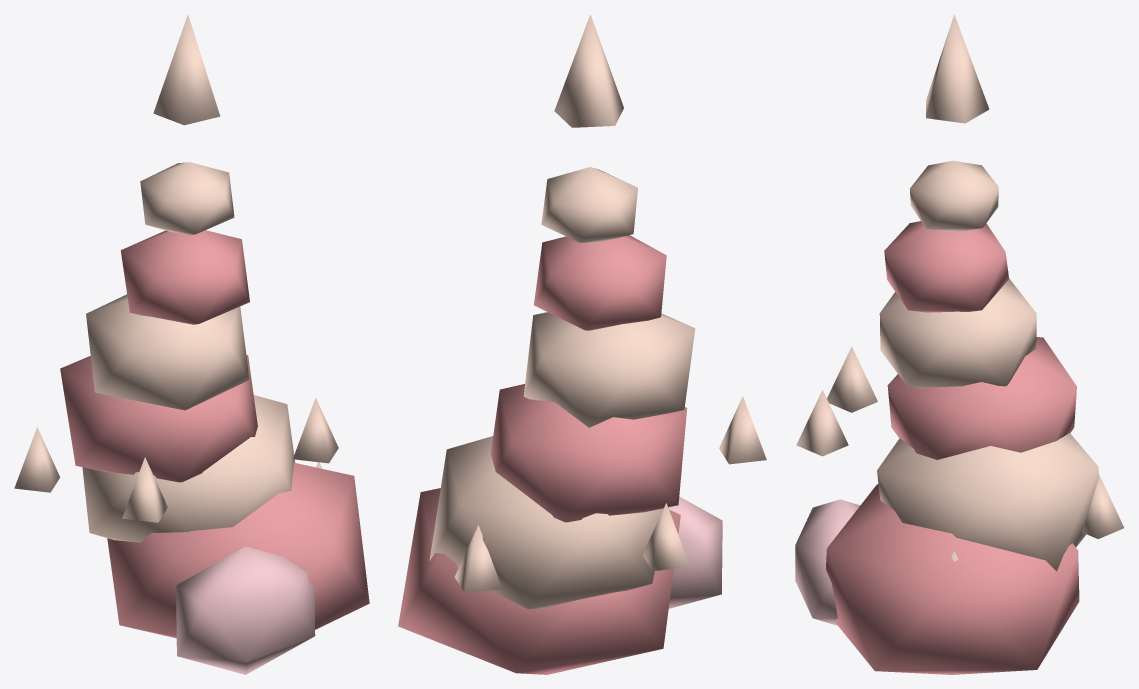
Rendered from conch.glb.
3 views of the same model, side by side, from view 1: azimuth 30°, elevation 25°; view 2: azimuth 150°, elevation 25°; view 3: azimuth 270°, elevation 25° (orthographic). The views are drawn at different scales.
Visible parts, largest first — view 1: conch_shell; view 2: conch_shell; view 3: conch_shell.
Part boxes in pixels (box(x1,y1,x2,y2)): conch_shell: box(14, 14, 369, 674); conch_shell: box(398, 14, 766, 674); conch_shell: box(795, 14, 1124, 674).
Size of the model in its own units: 0.9753 by 2.01 by 0.937.
